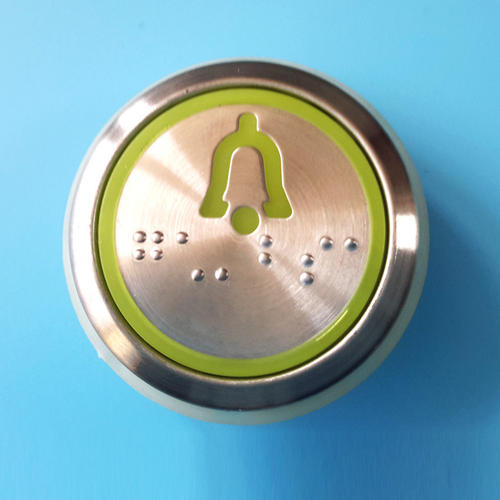Braille: (298, 234, 334, 289), (132, 230, 164, 281), (347, 238, 378, 287), (176, 231, 206, 281), (216, 234, 246, 284), (258, 235, 288, 285)
